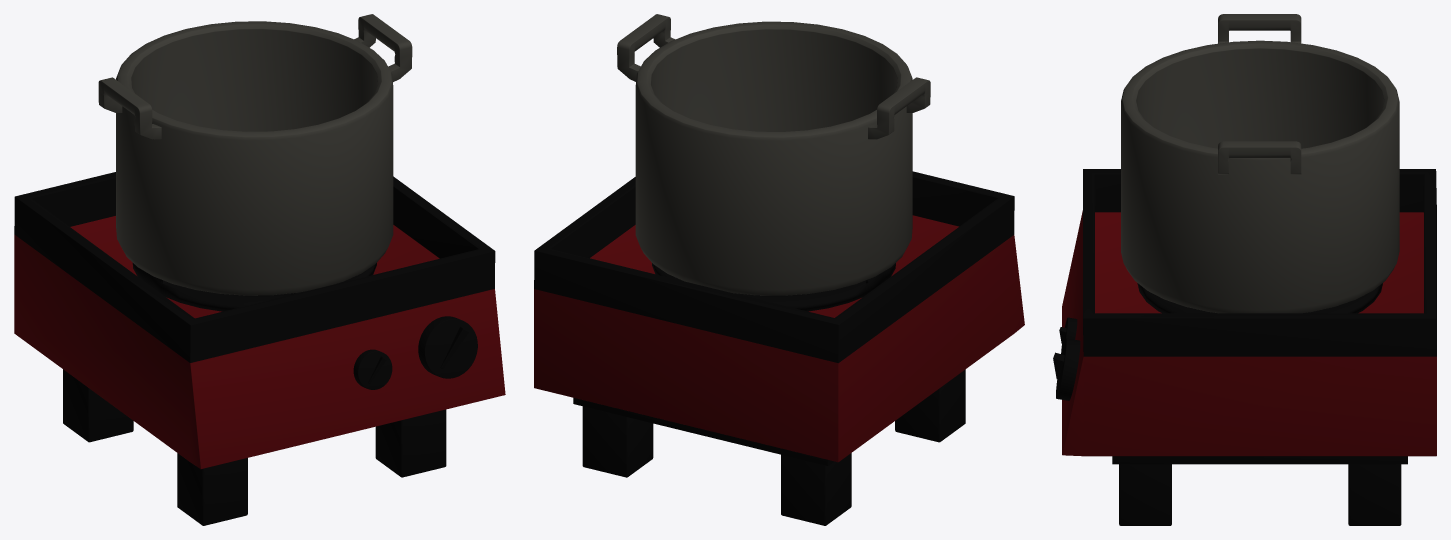
File: stove_pot.fbx
3 views of the same model, side by side, from view 1: azimuth 30°, elevation 25°; view 2: azimuth 150°, elevation 25°; view 3: azimuth 270°, elevation 25° (orthographic).
Visible parts, largest first — view 1: kompor, panci, kompor_kaki, kompor.001; view 2: kompor, panci, kompor_kaki, kompor.001; view 3: panci, kompor, kompor_kaki, kompor.001.
Boxes of the visible parts, x1,y1,x2,y2 form: kompor: (14,172,505,469); panci: (98,14,412,295); kompor_kaki: (63,369,446,525); kompor.001: (132,263,376,311); kompor: (534,171,1024,465); panci: (617,14,930,295); kompor_kaki: (582,369,965,525); kompor.001: (652,263,895,311); panci: (1121,14,1399,313); kompor: (1053,169,1436,464); kompor_kaki: (1119,464,1401,525); kompor.001: (1137,283,1382,313).
Size of the model in its own units: 100 by 121 by 109.
